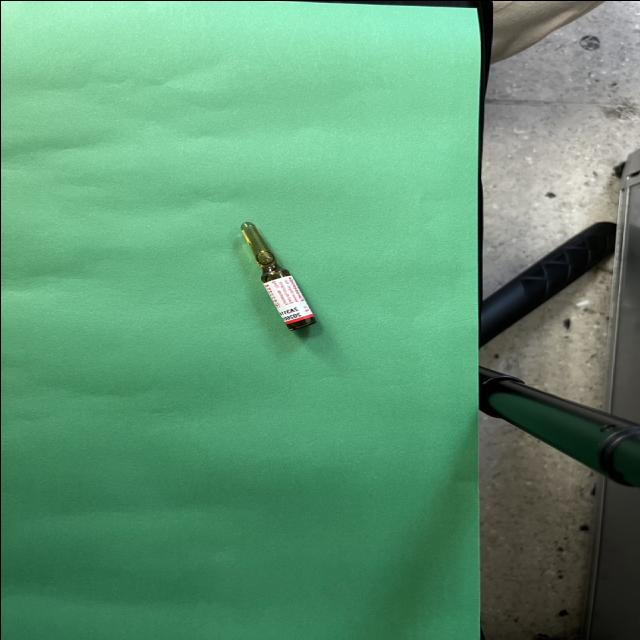Ampoules: (240, 221, 315, 329)
